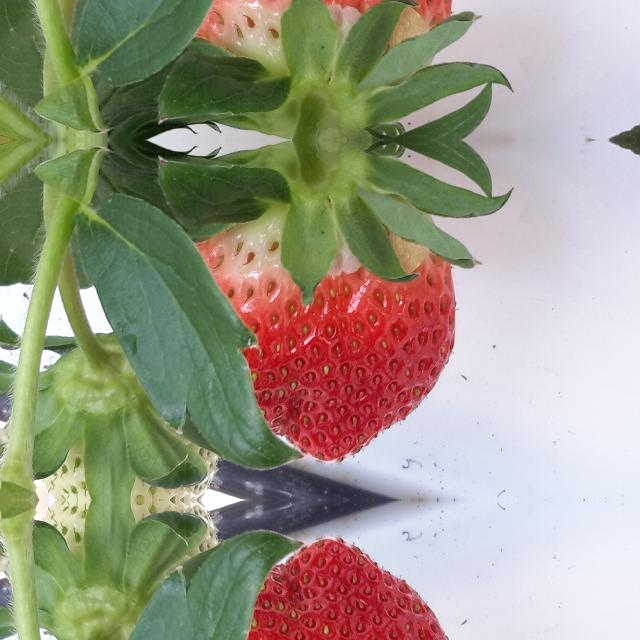Health_100: (195, 204, 460, 464), (194, 536, 459, 640), (194, 0, 459, 76)
